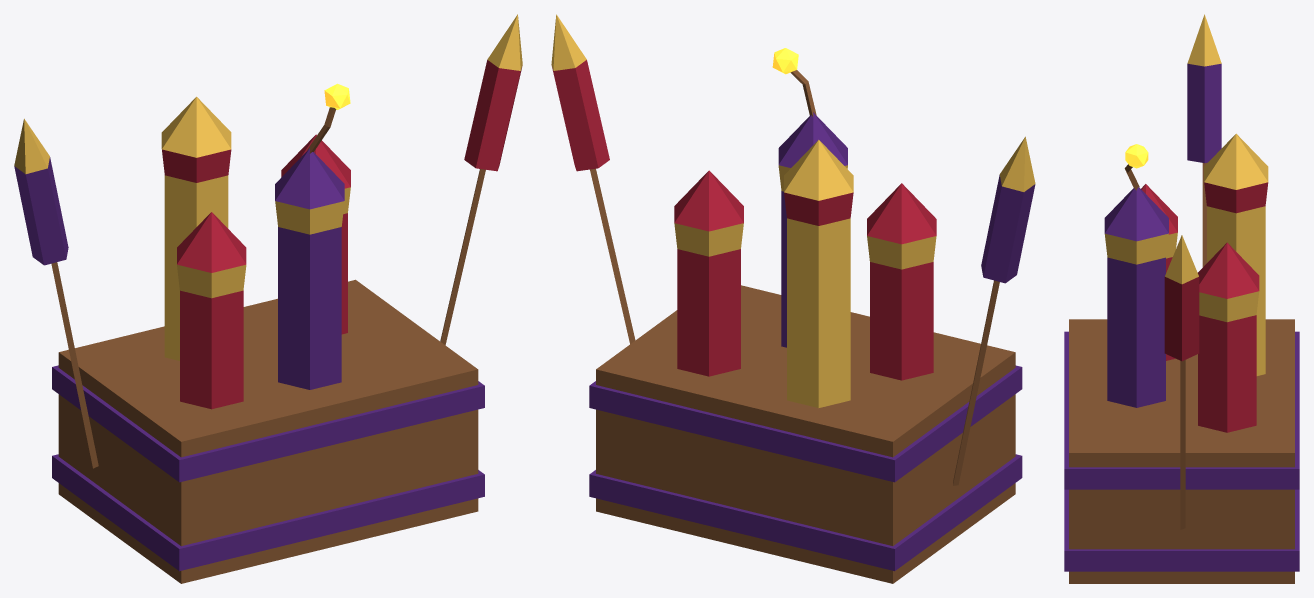
Rendered from firework_rack.glb.
The picture shows the model from 3 angles, left to right: view 1: azimuth 30°, elevation 25°; view 2: azimuth 150°, elevation 25°; view 3: azimuth 270°, elevation 25°; orthographic projection. The views are drawn at different scales.
Parts seen in each view (by area): view 1: firework_rack; view 2: firework_rack; view 3: firework_rack.
Part boxes in pixels (x1=…): firework_rack: x1=14, y1=14, x2=522, y2=583; firework_rack: x1=551, y1=14, x2=1035, y2=583; firework_rack: x1=1064, y1=14, x2=1299, y2=583.
Bounding box in the file's own units: 1.16 × 0.9733 × 0.52.
